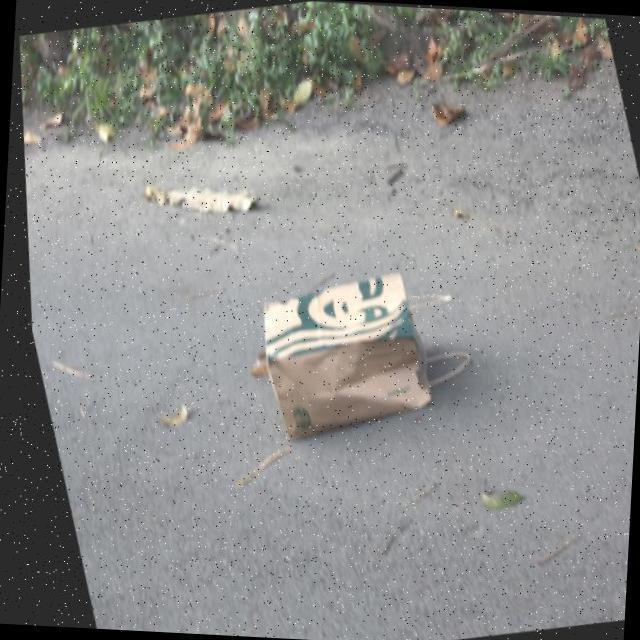Paper_Bag: (233, 253, 486, 454)
